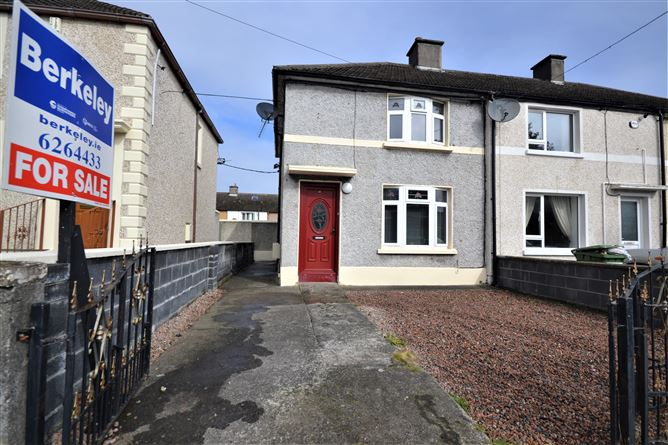property sign: (2, 1, 114, 215)
